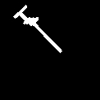double_crochet: (14, 5, 61, 52)
